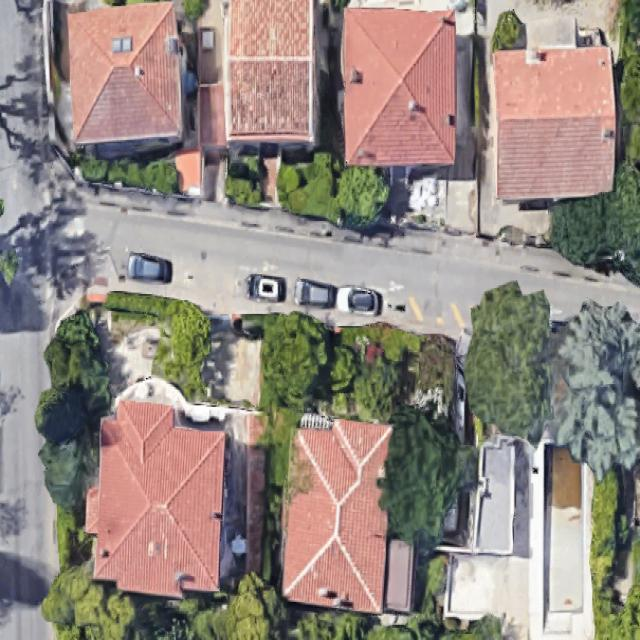maison: (80, 399, 230, 600), (280, 415, 395, 613), (493, 45, 617, 201), (340, 9, 455, 165), (68, 3, 179, 142), (228, 0, 313, 140)
